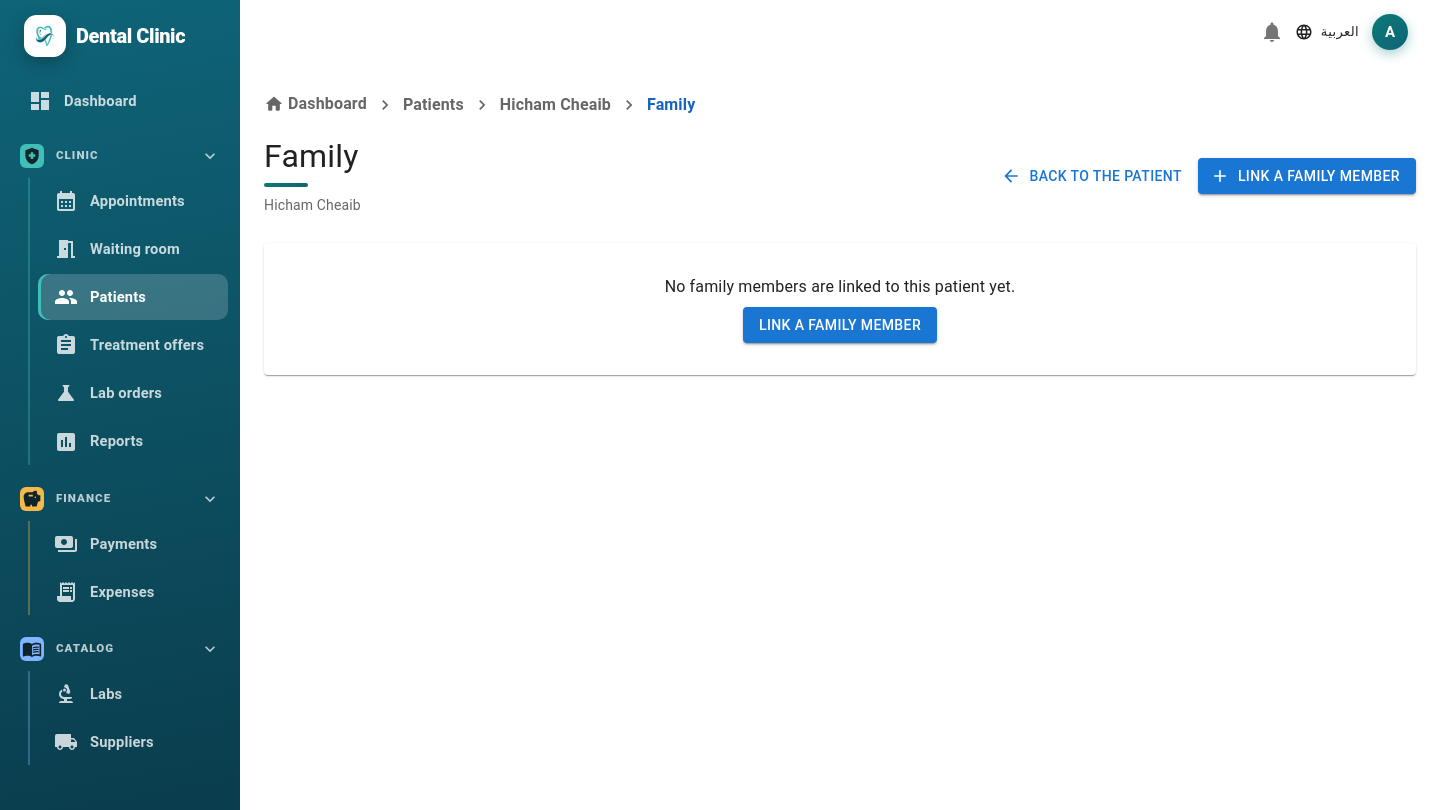
it: linking a family member › asks for both before it sends anything
Click the button "Link a family member" next to "Back to the patient" at [1307, 176], box [1198,158,1416,194]
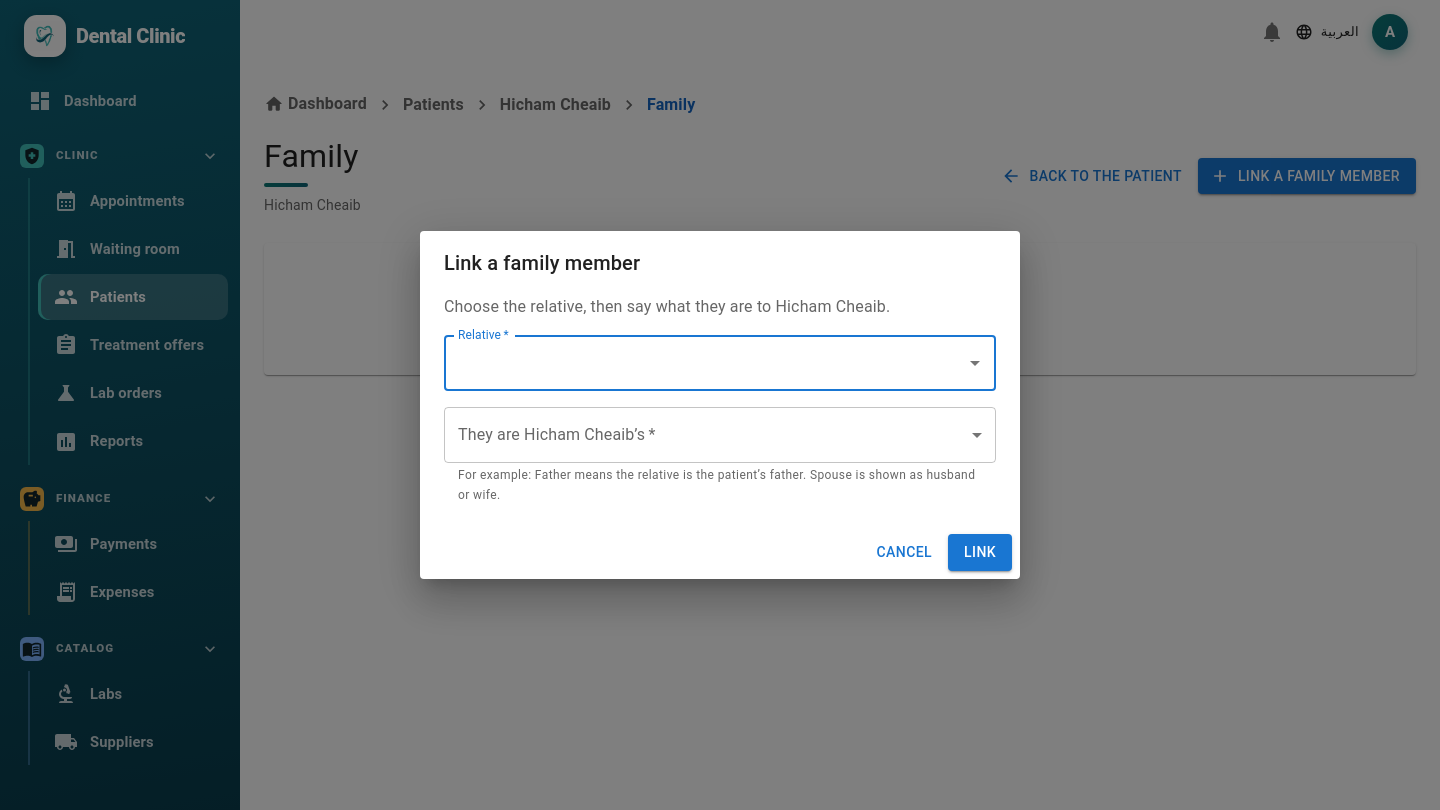
Click the button "Link" at [980, 552], box [948,534,1012,571]
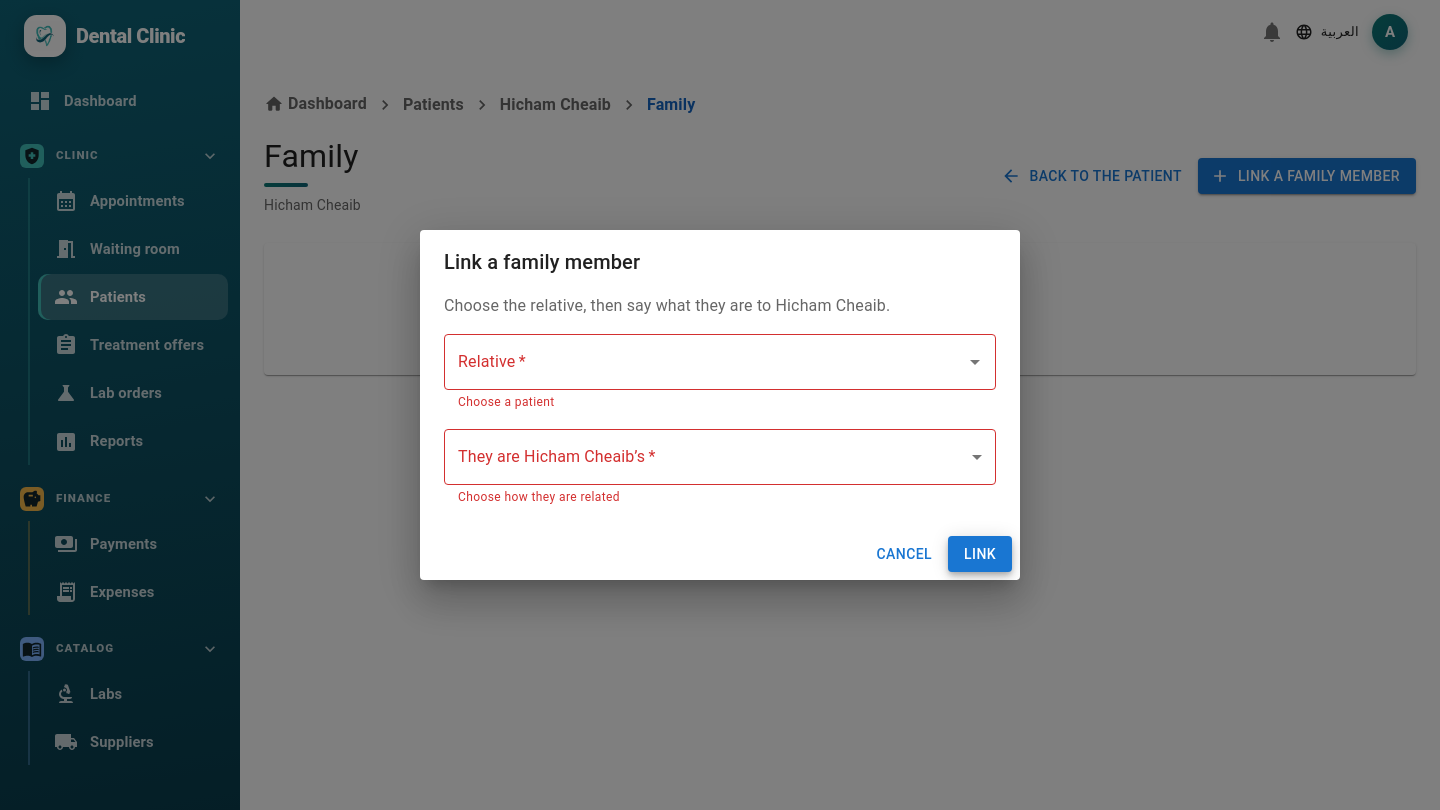
Expected: the text "Choose a patient" is shown, [458,395,555,409]
Expected: the text "Choose how they are related" is shown, [458,490,620,504]
